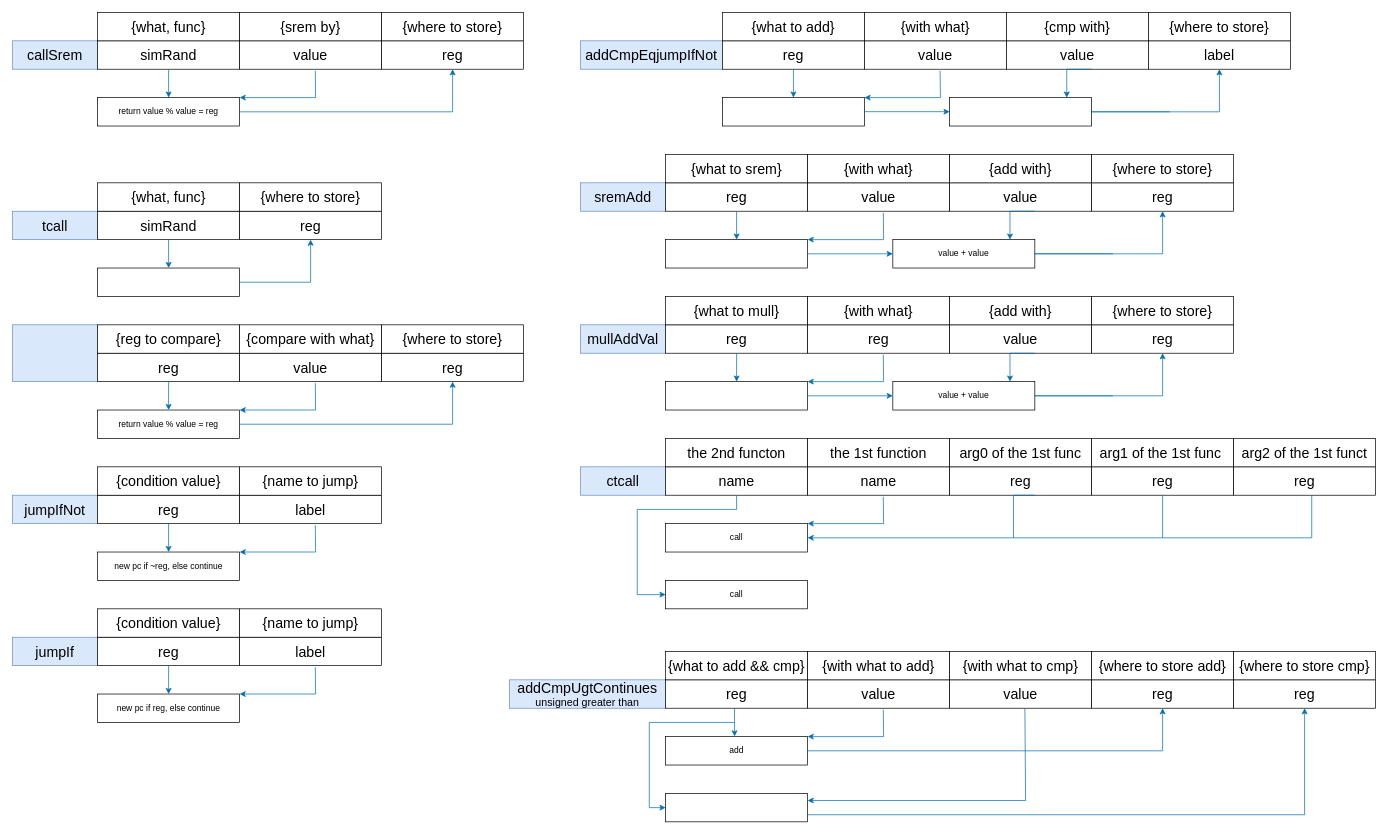
Some shapes in this 1388 by 834 pixel diagram are drawn without their labels. The box of each missing label's shape, as (x1, y1, x2, y2) in pixels:
cmp: (665, 793, 808, 822)
cmpSgt sign greater then: (12, 324, 98, 382)
reg * reg = value: (665, 381, 808, 410)
reg + value = value: (722, 97, 864, 126)
return value % value = value: (665, 239, 808, 268)
return value = reg: (97, 267, 240, 296)
value == value if not equal jump else continue: (949, 97, 1092, 126)
